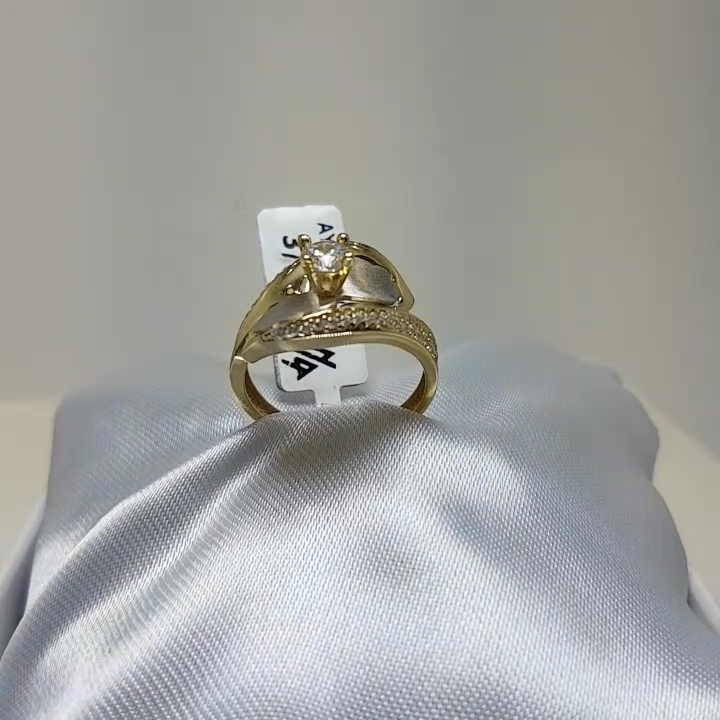Ring 6: (221, 208, 447, 454)
